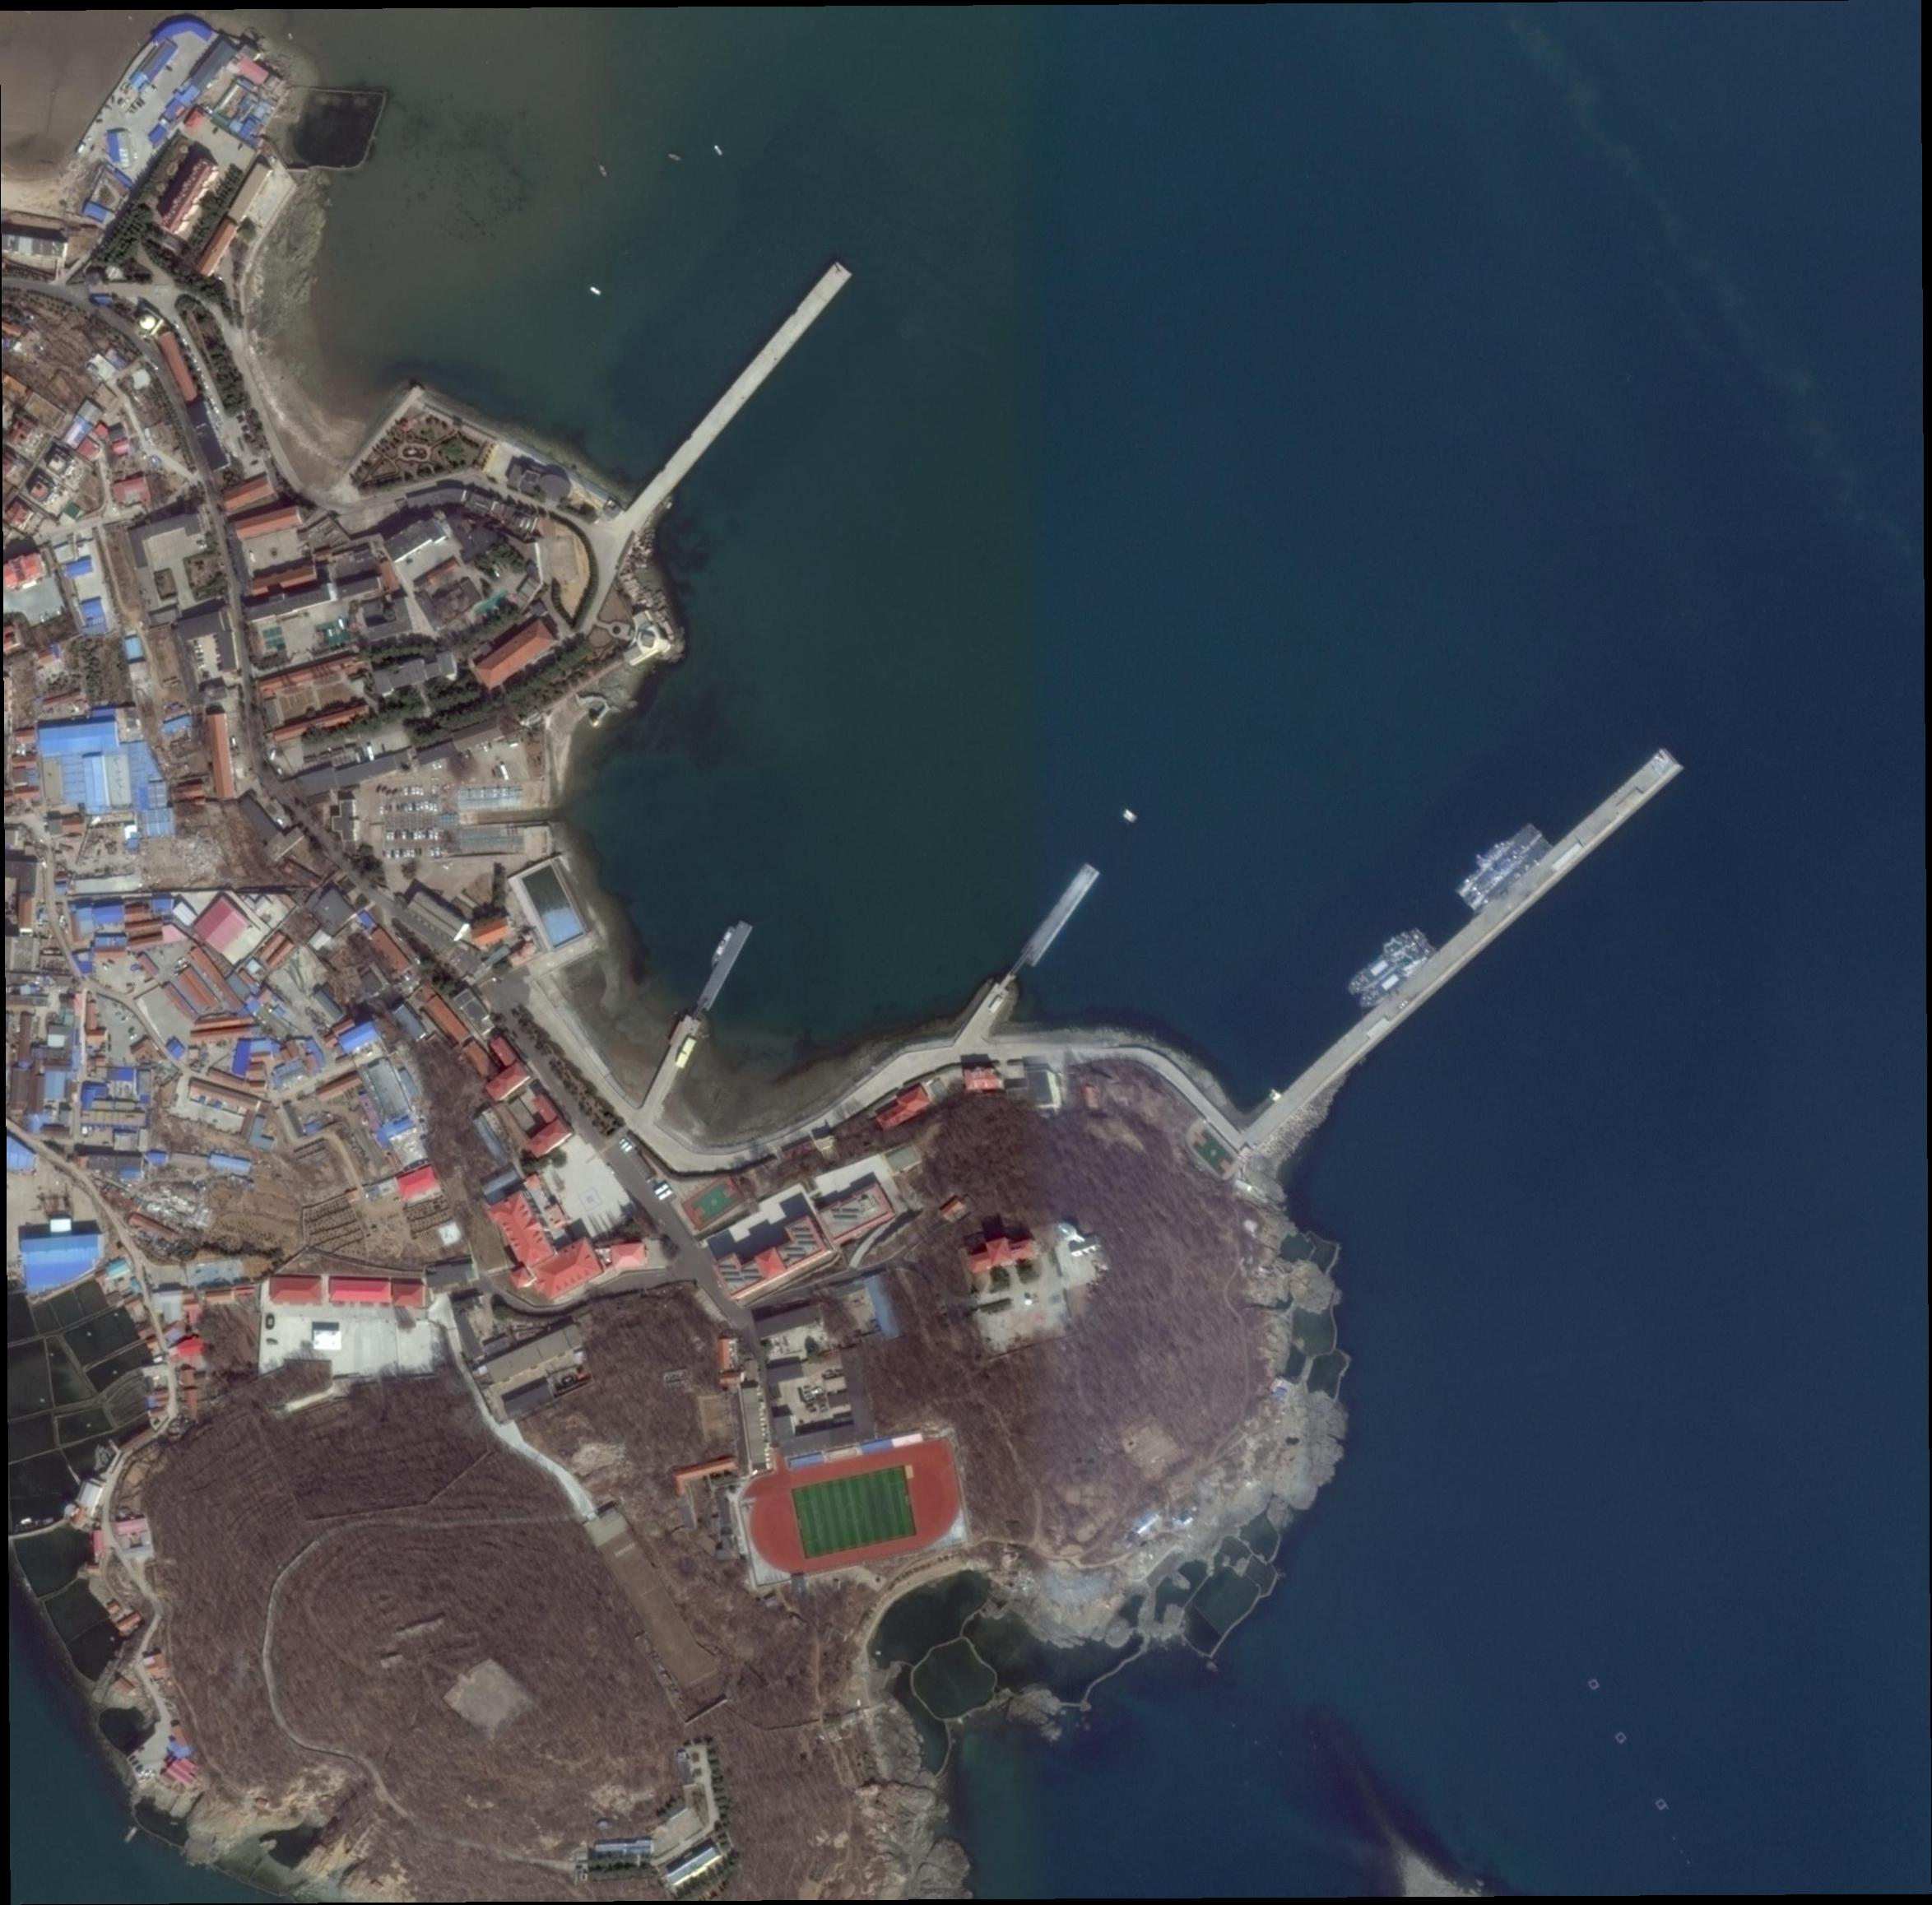harbor: (1242, 747, 1683, 1151), (631, 262, 851, 520), (1018, 862, 1099, 966), (689, 921, 752, 1022)
ship: (1456, 822, 1541, 902), (1466, 837, 1554, 916), (1346, 926, 1426, 1000), (1357, 940, 1435, 1014), (708, 926, 736, 968)
